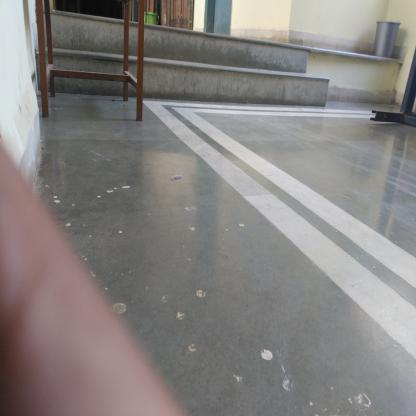stairs: (148, 42, 305, 113)
